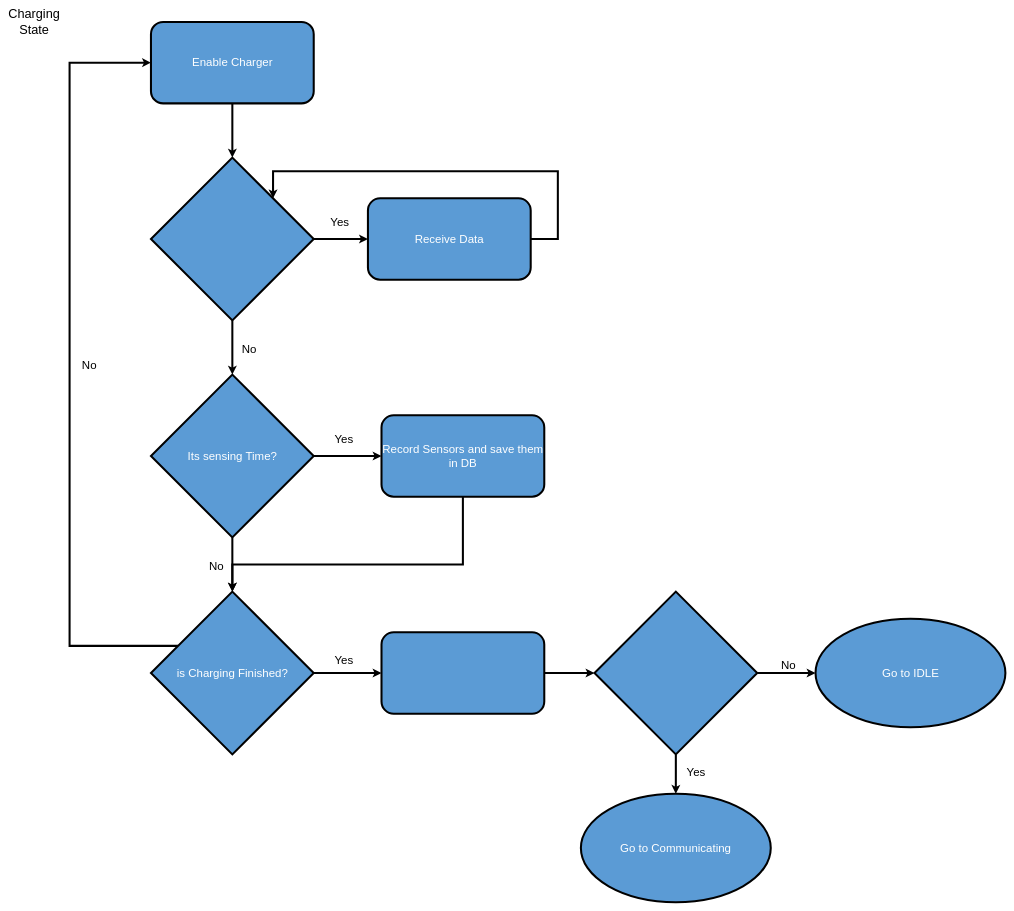
The diagram is 1014 pixels wide and 911 high, and some of its shapes have lost their labels. Here are the shapes that lost their labels. From the top down, the centre of each, then its label:
pixel 232 238: is there BT data?
pixel 462 673: Disable Charger
pixel 675 672: is WIFI Time?
